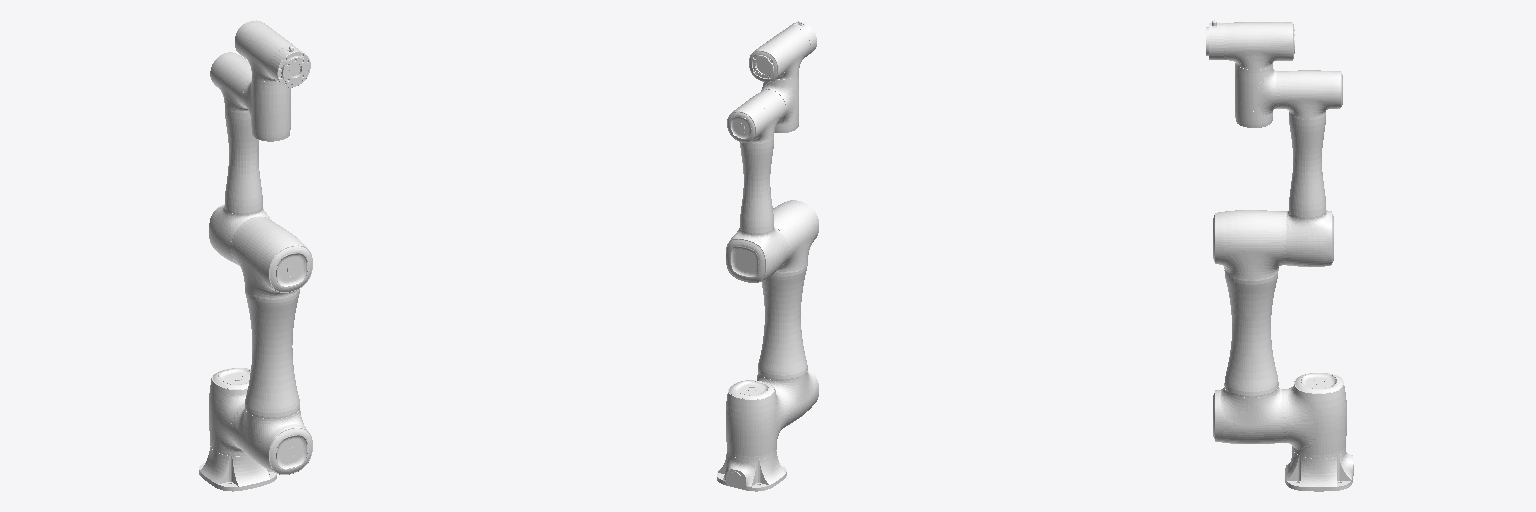
The robot description file, URDF, robot "CR5URDF":
<?xml version="1.0" encoding="utf-8"?>
<!-- This URDF was automatically created by SolidWorks to URDF Exporter! Originally created by [author] ([email redacted]) 
     Commit Version: 1.6.0-1-g15f4949  Build Version: 1.6.7594.29634
     For more information, please see http://wiki.ros.org/sw_urdf_exporter -->
<robot
  name="CR5URDF">
  <link
    name="base_link">
    <inertial>
      <origin
        xyz="-8.0961E-06 0.0019103 0.028995"
        rpy="0 0 0" />
      <mass
        value="0.90882" />
      <inertia
        ixx="0.0014545"
        ixy="4.2968E-08"
        ixz="-1.8199E-07"
        iyy="0.001345"
        iyz="-6.243E-06"
        izz="0.002155" />
    </inertial>
    <visual>
      <origin
        xyz="0 0 0"
        rpy="0 0 0" />
      <geometry>
        <mesh
          filename="package://bullet_simulation_pkg/meshes/base_link.STL" />
      </geometry>
      <material
        name="">
        <color
          rgba="1 1 1 1" />
      </material>
    </visual>
    <collision>
      <origin
        xyz="0 0 0"
        rpy="0 0 0" />
      <geometry>
        <mesh
          filename="package://bullet_simulation_pkg/meshes/base_link.STL" />
      </geometry>
    </collision>
  </link>
  <link
    name="Link1">
    <inertial>
      <origin
        xyz="-8.7268E-07 -0.0032576 -0.0076748"
        rpy="0 0 0" />
      <mass
        value="1.6123" />
      <inertia
        ixx="0.0029122"
        ixy="5.7387E-09"
        ixz="1.9945E-08"
        iyy="0.0028191"
        iyz="0.00044094"
        izz="0.0032836" />
    </inertial>
    <visual>
      <origin
        xyz="0 0 0"
        rpy="0 0 0" />
      <geometry>
        <mesh
          filename="package://bullet_simulation_pkg/meshes/Link1.STL" />
      </geometry>
      <material
        name="">
        <color
          rgba="1 1 1 1" />
      </material>
    </visual>
    <collision>
      <origin
        xyz="0 0 0"
        rpy="0 0 0" />
      <geometry>
        <mesh
          filename="package://bullet_simulation_pkg/meshes/Link1.STL" />
      </geometry>
    </collision>
  </link>
  <joint
    name="joint1"
    type="revolute">
    <origin
      xyz="0 0 0.147"
      rpy="0 0 0" />
    <parent
      link="base_link" />
    <child
      link="Link1" />
    <axis
      xyz="0 0 1" />
    <limit
      lower="-3.14"
      upper="3.14"
      effort="0"
      velocity="0" />
  </joint>
  <link
    name="Link2">
    <inertial>
      <origin
        xyz="-0.21351 -1.3842E-06 0.14252"
        rpy="0 0 0" />
      <mass
        value="5.5186" />
      <inertia
        ixx="0.0085919"
        ixy="7.5552E-07"
        ixz="-7.8922E-07"
        iyy="0.027553"
        iyz="1.4629E-07"
        izz="0.028294" />
    </inertial>
    <visual>
      <origin
        xyz="0 0 0"
        rpy="0 0 0" />
      <geometry>
        <mesh
          filename="package://bullet_simulation_pkg/meshes/Link2.STL" />
      </geometry>
      <material
        name="">
        <color
          rgba="1 1 1 1" />
      </material>
    </visual>
    <collision>
      <origin
        xyz="0 0 0"
        rpy="0 0 0" />
      <geometry>
        <mesh
          filename="package://bullet_simulation_pkg/meshes/Link2.STL" />
      </geometry>
    </collision>
  </link>
  <joint
    name="joint2"
    type="revolute">
    <origin
      xyz="0 0 0"
      rpy="1.5708 1.5708 0" />
    <parent
      link="Link1" />
    <child
      link="Link2" />
    <axis
      xyz="0 0 1" />
    <limit
      lower="-3.14"
      upper="3.14"
      effort="0"
      velocity="0" />
  </joint>
  <link
    name="Link3">
    <inertial>
      <origin
        xyz="-0.15231 -1.4079E-07 0.022693"
        rpy="0 0 0" />
      <mass
        value="2.8536" />
      <inertia
        ixx="0.0032608"
        ixy="-3.2147E-10"
        ixz="0.00012363"
        iyy="0.0092967"
        iyz="2.9478E-10"
        izz="0.0095552" />
    </inertial>
    <visual>
      <origin
        xyz="0 0 0"
        rpy="0 0 0" />
      <geometry>
        <mesh
          filename="package://bullet_simulation_pkg/meshes/Link3.STL" />
      </geometry>
      <material
        name="">
        <color
          rgba="1 1 1 1" />
      </material>
    </visual>
    <collision>
      <origin
        xyz="0 0 0"
        rpy="0 0 0" />
      <geometry>
        <mesh
          filename="package://bullet_simulation_pkg/meshes/Link3.STL" />
      </geometry>
    </collision>
  </link>
  <joint
    name="joint3"
    type="revolute">
    <origin
      xyz="-0.427 0 0"
      rpy="0 0 0" />
    <parent
      link="Link2" />
    <child
      link="Link3" />
    <axis
      xyz="0 0 1" />
    <limit
      lower="-3.14"
      upper="3.14"
      effort="0"
      velocity="0" />
  </joint>
  <link
    name="Link4">
    <inertial>
      <origin
        xyz="-3.2386E-07 -0.002077 -0.0015548"
        rpy="0 0 0" />
      <mass
        value="0.67058" />
      <inertia
        ixx="0.00066939"
        ixy="4.1975E-10"
        ixz="-1.0734E-08"
        iyy="0.00065424"
        iyz="0.00011081"
        izz="0.00065365" />
    </inertial>
    <visual>
      <origin
        xyz="0 0 0"
        rpy="0 0 0" />
      <geometry>
        <mesh
          filename="package://bullet_simulation_pkg/meshes/Link4.STL" />
      </geometry>
      <material
        name="">
        <color
          rgba="1 1 1 1" />
      </material>
    </visual>
    <collision>
      <origin
        xyz="0 0 0"
        rpy="0 0 0" />
      <geometry>
        <mesh
          filename="package://bullet_simulation_pkg/meshes/Link4.STL" />
      </geometry>
    </collision>
  </link>
  <joint
    name="joint4"
    type="revolute">
    <origin
      xyz="-0.357 0 0.141"
      rpy="0 0 -1.5708" />
    <parent
      link="Link3" />
    <child
      link="Link4" />
    <axis
      xyz="0 0 1" />
    <limit
      lower="-3.14"
      upper="3.14"
      effort="0"
      velocity="0" />
  </joint>
  <link
    name="Link5">
    <inertial>
      <origin
        xyz="-3.7738E-07 -0.0045777 -0.0012971"
        rpy="0 0 0" />
      <mass
        value="0.7269" />
      <inertia
        ixx="0.00073069"
        ixy="-5.7806E-09"
        ixz="6.7132E-09"
        iyy="0.00071195"
        iyz="-0.00011926"
        izz="0.00071391" />
    </inertial>
    <visual>
      <origin
        xyz="0 0 0"
        rpy="0 0 0" />
      <geometry>
        <mesh
          filename="package://bullet_simulation_pkg/meshes/Link5.STL" />
      </geometry>
      <material
        name="">
        <color
          rgba="1 1 1 1" />
      </material>
    </visual>
    <collision>
      <origin
        xyz="0 0 0"
        rpy="0 0 0" />
      <geometry>
        <mesh
          filename="package://bullet_simulation_pkg/meshes/Link5.STL" />
      </geometry>
    </collision>
  </link>
  <joint
    name="joint5"
    type="revolute">
    <origin
      xyz="0 -0.116 0"
      rpy="1.5708 0 0" />
    <parent
      link="Link4" />
    <child
      link="Link5" />
    <axis
      xyz="0 0 1" />
    <limit
      lower="-3.14"
      upper="3.14"
      effort="0"
      velocity="0" />
  </joint>
  <link
    name="Link6">
    <inertial>
      <origin
        xyz="5.0777E-11 9.3774E-05 -0.019285"
        rpy="0 0 0" />
      <mass
        value="0.15789" />
      <inertia
        ixx="7.8045E-05"
        ixy="6.1582E-15"
        ixz="6.2471E-14"
        iyy="7.9168E-05"
        iyz="-1.3822E-07"
        izz="0.00012951" />
    </inertial>
    <visual>
      <origin
        xyz="0 0 0"
        rpy="0 0 0" />
      <geometry>
        <mesh
          filename="package://bullet_simulation_pkg/meshes/Link6.STL" />
      </geometry>
      <material
        name="">
        <color
          rgba="1 1 1 1" />
      </material>
    </visual>
    <collision>
      <origin
        xyz="0 0 0"
        rpy="0 0 0" />
      <geometry>
        <mesh
          filename="package://bullet_simulation_pkg/meshes/Link6.STL" />
      </geometry>
    </collision>
  </link>
  <joint
    name="joint6"
    type="revolute">
    <origin
      xyz="0 0.105 0"
      rpy="-1.5708 0 0" />
    <parent
      link="Link5" />
    <child
      link="Link6" />
    <axis
      xyz="0 0 1" />
    <limit
      lower="-3.14"
      upper="3.14"
      effort="0"
      velocity="0" />
  </joint>
</robot>

--- Render facts (derived) ---
Views: 3 orthographic renders of the robot side by side, from view 1: azimuth 30°, elevation 25°; view 2: azimuth 150°, elevation 25°; view 3: azimuth 270°, elevation 25°.
Robot: CR5URDF — 7 links, 6 joints (6 revolute); root link base_link; default pose: every joint at zero.
Links seen in each view (by area): view 1: Link2, Link3, Link1, Link4, base_link, Link5, Link6; view 2: Link2, Link3, Link1, Link5, base_link, Link4; view 3: Link2, Link3, Link1, Link5, Link4, base_link, Link6.
Boxes of the visible links, <box> form: Link2: <box>231,217,312,474</box>; Link3: <box>209,52,271,264</box>; Link1: <box>209,368,250,455</box>; Link4: <box>243,76,290,141</box>; base_link: <box>199,446,276,491</box>; Link5: <box>235,20,294,81</box>; Link6: <box>270,46,310,87</box>; Link2: <box>757,200,818,427</box>; Link3: <box>726,89,787,282</box>; Link1: <box>726,380,787,459</box>; Link5: <box>749,27,810,82</box>; base_link: <box>717,450,786,491</box>; Link4: <box>761,74,798,132</box>; Link2: <box>1213,210,1285,443</box>; Link3: <box>1277,70,1342,266</box>; Link1: <box>1286,373,1346,458</box>; Link5: <box>1224,22,1294,69</box>; Link4: <box>1235,62,1276,127</box>; base_link: <box>1285,450,1353,491</box>; Link6: <box>1206,20,1223,59</box>.
Bounding box of the posed robot: 0.148 × 0.3221 × 1.1 m (x, y, z).
7 mesh visuals loaded from 7 distinct referenced files (7 binary STL).